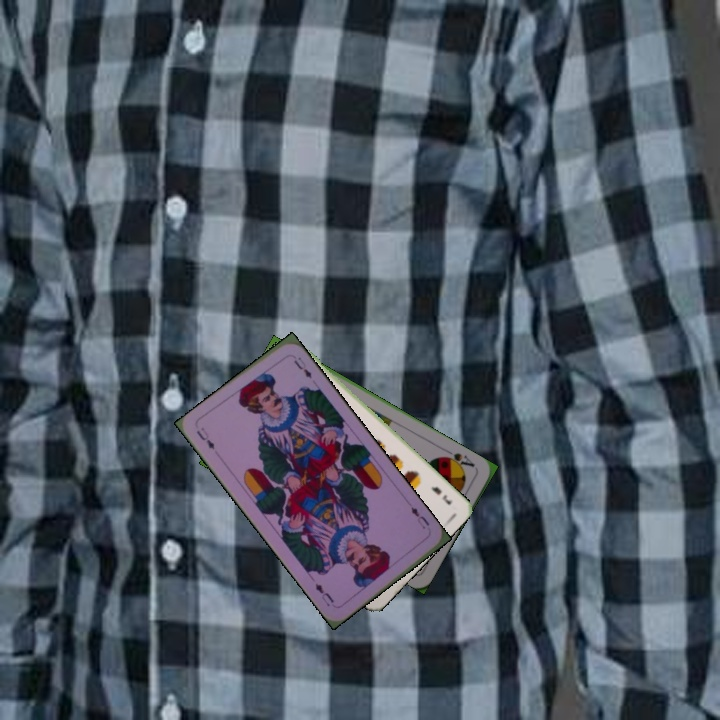E7: (427, 482, 455, 507)
EU: (406, 503, 432, 532), (192, 423, 217, 452)
SA: (439, 446, 477, 473)
